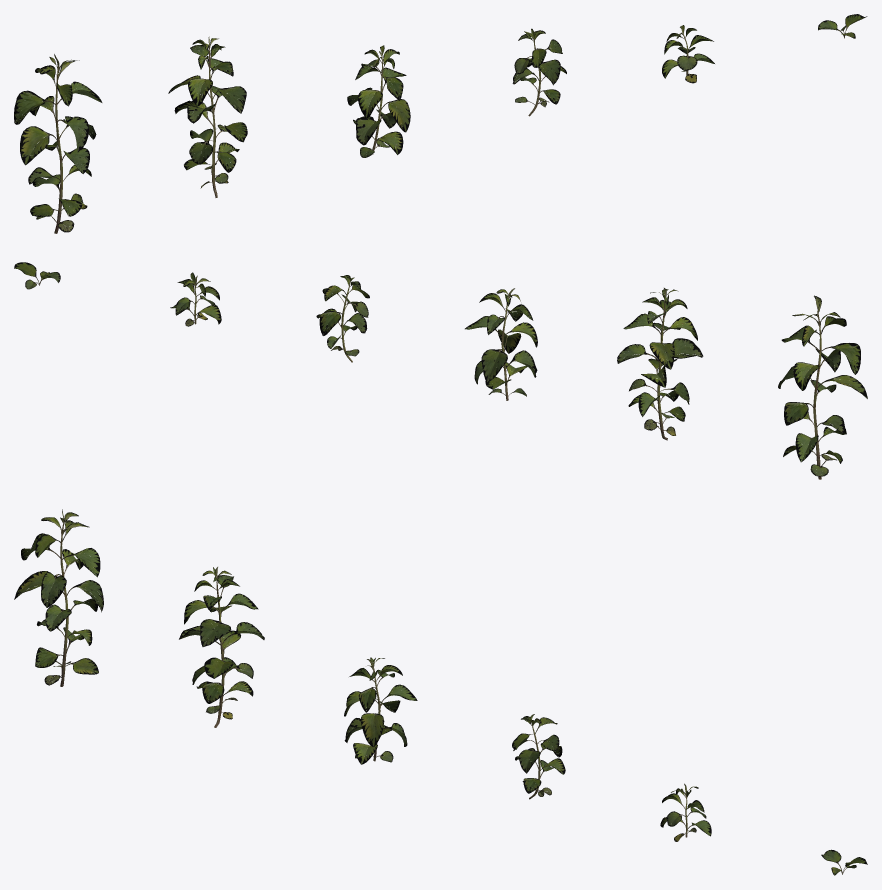
Rendered from nettle_plant.glb.
3 views of the same model, one above another, from view 1: azimuth 30°, elevation 25°; view 2: azimuth 150°, elevation 25°; view 3: azimuth 330°, elevation 25° (orthographic).
Visible parts, largest first — view 1: nettle_plant_tall_a, nettle_plant_tall_b, nettle_plant_medium_a, nettle_plant_medium_b, nettle_plant_small_a; view 2: nettle_plant_tall_a, nettle_plant_tall_b, nettle_plant_medium_a, nettle_plant_medium_b, nettle_plant_small_a, nettle_plant_small_b; view 3: nettle_plant_tall_a, nettle_plant_tall_b, nettle_plant_medium_a, nettle_plant_medium_b, nettle_plant_small_a.
Boxes of the visible parts, <box> form: nettle_plant_tall_a: <box>14,54,102,233</box>; nettle_plant_tall_b: <box>168,36,247,197</box>; nettle_plant_medium_a: <box>347,45,410,157</box>; nettle_plant_medium_b: <box>512,28,566,116</box>; nettle_plant_small_a: <box>662,25,714,83</box>; nettle_plant_tall_a: <box>778,295,867,479</box>; nettle_plant_tall_b: <box>617,288,703,440</box>; nettle_plant_medium_a: <box>465,288,537,400</box>; nettle_plant_medium_b: <box>316,275,369,362</box>; nettle_plant_small_a: <box>170,272,221,326</box>; nettle_plant_small_b: <box>14,262,60,289</box>; nettle_plant_tall_a: <box>14,509,103,686</box>; nettle_plant_tall_b: <box>179,567,264,727</box>; nettle_plant_medium_a: <box>344,657,417,764</box>; nettle_plant_medium_b: <box>512,714,565,799</box>; nettle_plant_small_a: <box>660,783,711,841</box>.
Size of the model in its own units: 1.08 by 0.2182 by 0.0949.
Materials: 1 (1 with a texture image).
